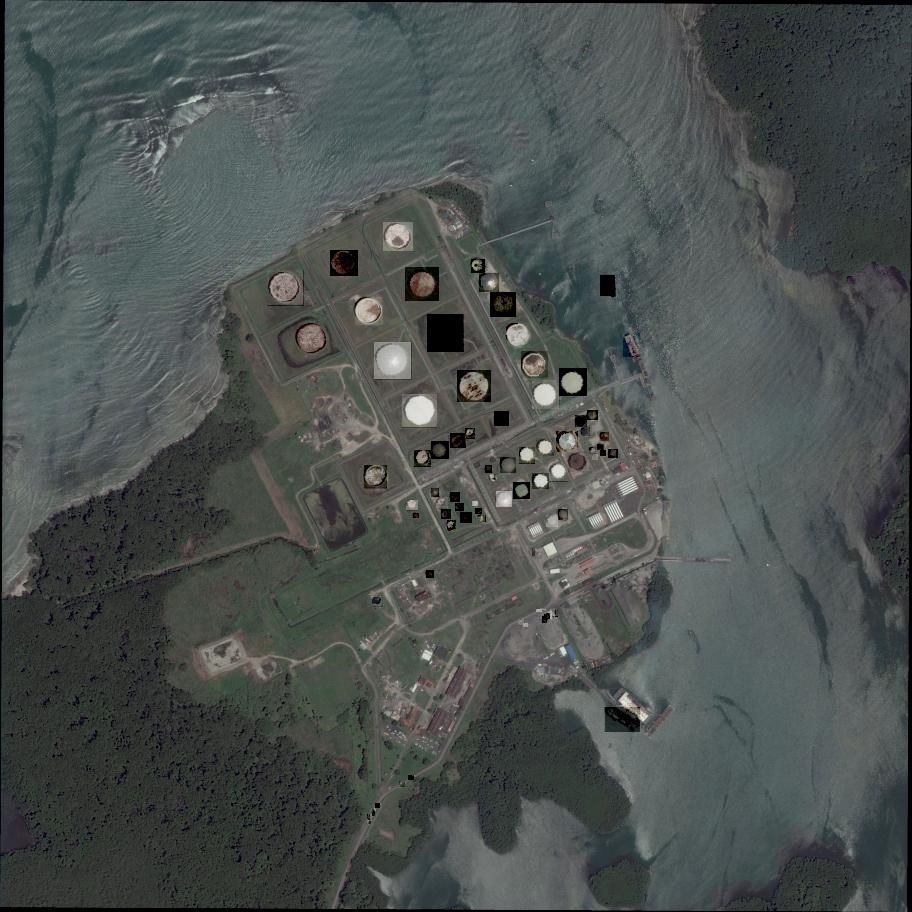large-vehicle: (534, 552, 542, 559), (519, 620, 526, 627), (542, 616, 547, 624), (536, 633, 541, 640), (553, 611, 558, 617), (408, 776, 414, 781), (549, 612, 553, 619), (401, 782, 406, 787), (376, 804, 381, 809), (550, 611, 555, 616), (544, 614, 548, 620), (524, 624, 529, 628), (546, 614, 550, 619), (536, 609, 542, 612), (533, 548, 535, 556), (369, 819, 372, 824), (368, 816, 371, 821), (553, 611, 554, 617), (373, 813, 374, 815)
ship: (605, 706, 641, 733), (623, 333, 640, 358), (600, 275, 616, 296), (611, 288, 616, 296)
storage-tank: (428, 314, 466, 353), (375, 342, 413, 381), (267, 271, 305, 308), (403, 395, 438, 430), (405, 267, 440, 302), (294, 322, 328, 355), (458, 371, 491, 403), (384, 222, 414, 252), (533, 380, 562, 409), (559, 368, 588, 397), (522, 352, 550, 380), (355, 297, 383, 325), (330, 250, 357, 276), (491, 292, 517, 318), (506, 323, 532, 349), (556, 431, 579, 453), (365, 465, 387, 488), (566, 452, 589, 473), (479, 274, 500, 294), (549, 462, 568, 482), (431, 441, 450, 460), (536, 438, 554, 456), (532, 473, 550, 490), (513, 482, 531, 499), (496, 491, 514, 508), (414, 450, 431, 468), (519, 447, 536, 464), (500, 458, 517, 474), (451, 433, 466, 449), (495, 411, 509, 427), (472, 259, 485, 273), (575, 416, 588, 429), (545, 515, 558, 528), (460, 513, 473, 525), (436, 498, 448, 510), (465, 428, 477, 440), (587, 411, 599, 422), (407, 501, 418, 512), (441, 509, 452, 520), (450, 492, 461, 502), (608, 449, 618, 459), (600, 432, 610, 442), (448, 521, 457, 532), (559, 510, 568, 519), (426, 570, 435, 579), (455, 503, 464, 511), (374, 598, 382, 606), (582, 428, 589, 436), (432, 489, 439, 497), (485, 466, 493, 473), (475, 508, 483, 515), (597, 443, 605, 450), (478, 515, 485, 522), (589, 448, 596, 455), (600, 451, 606, 456), (473, 502, 479, 507), (593, 454, 598, 460), (413, 514, 419, 518), (490, 475, 495, 479)
